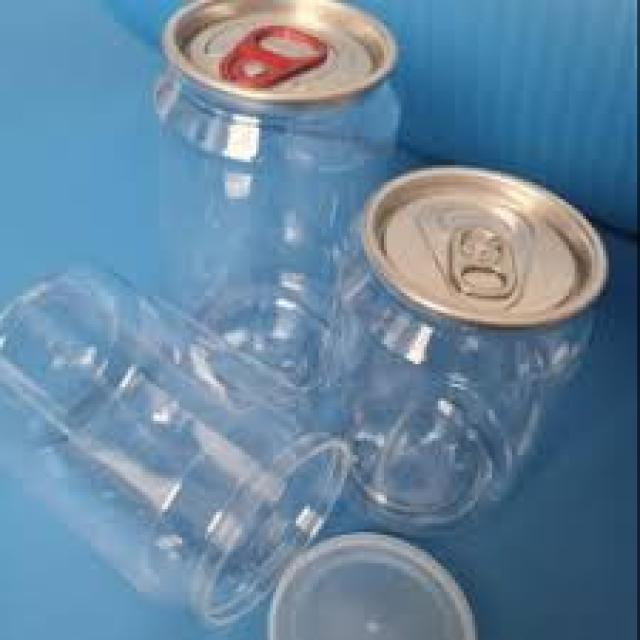Dry: (0, 270, 350, 629), (303, 172, 609, 532), (151, 0, 403, 398)
